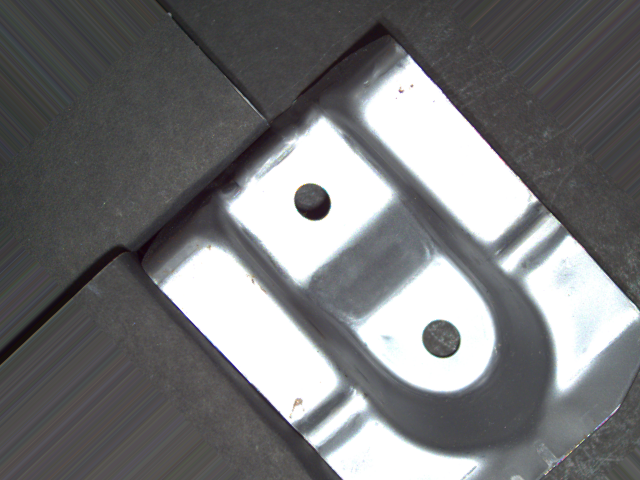defect: (419, 316, 467, 360)
